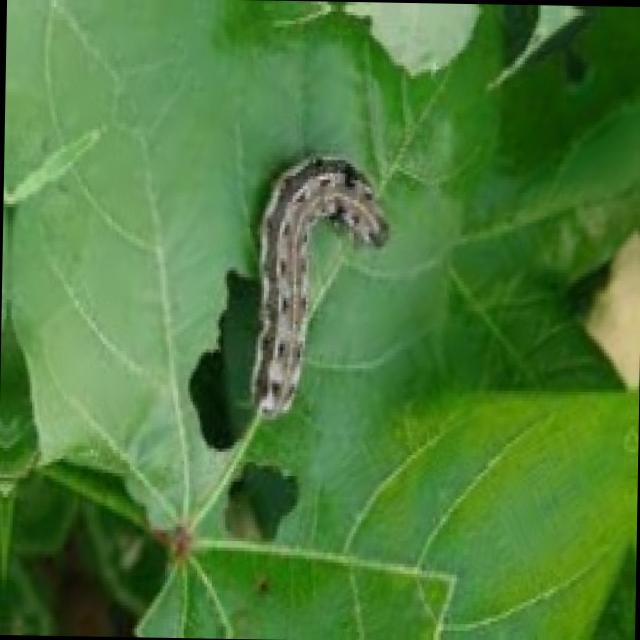Armyworm: (250, 134, 392, 490)
Armyworm_damage: (232, 434, 308, 559)
